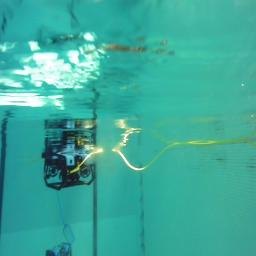back: (42, 148, 96, 188)
front: (46, 242, 74, 256)
